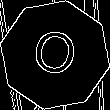O_S: (29, 25, 81, 85)
